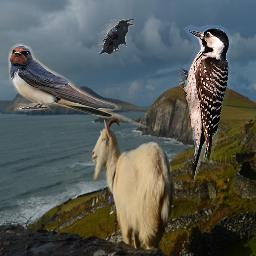Crow: (98, 19, 134, 56)
Swallow: (8, 43, 149, 128)
Woodpecker: (179, 24, 232, 186)
